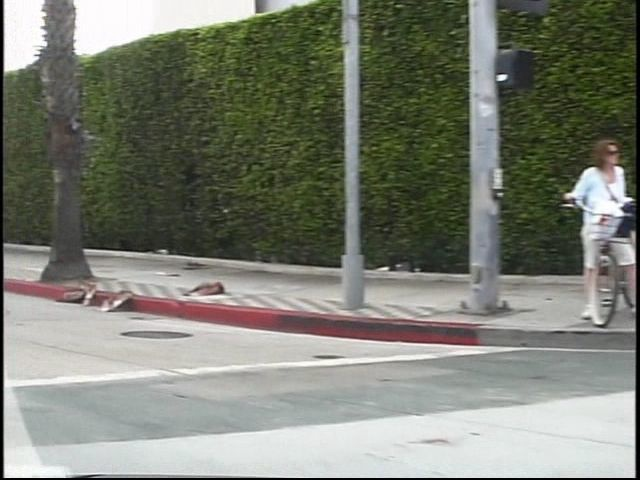person: (553, 146, 621, 321)
